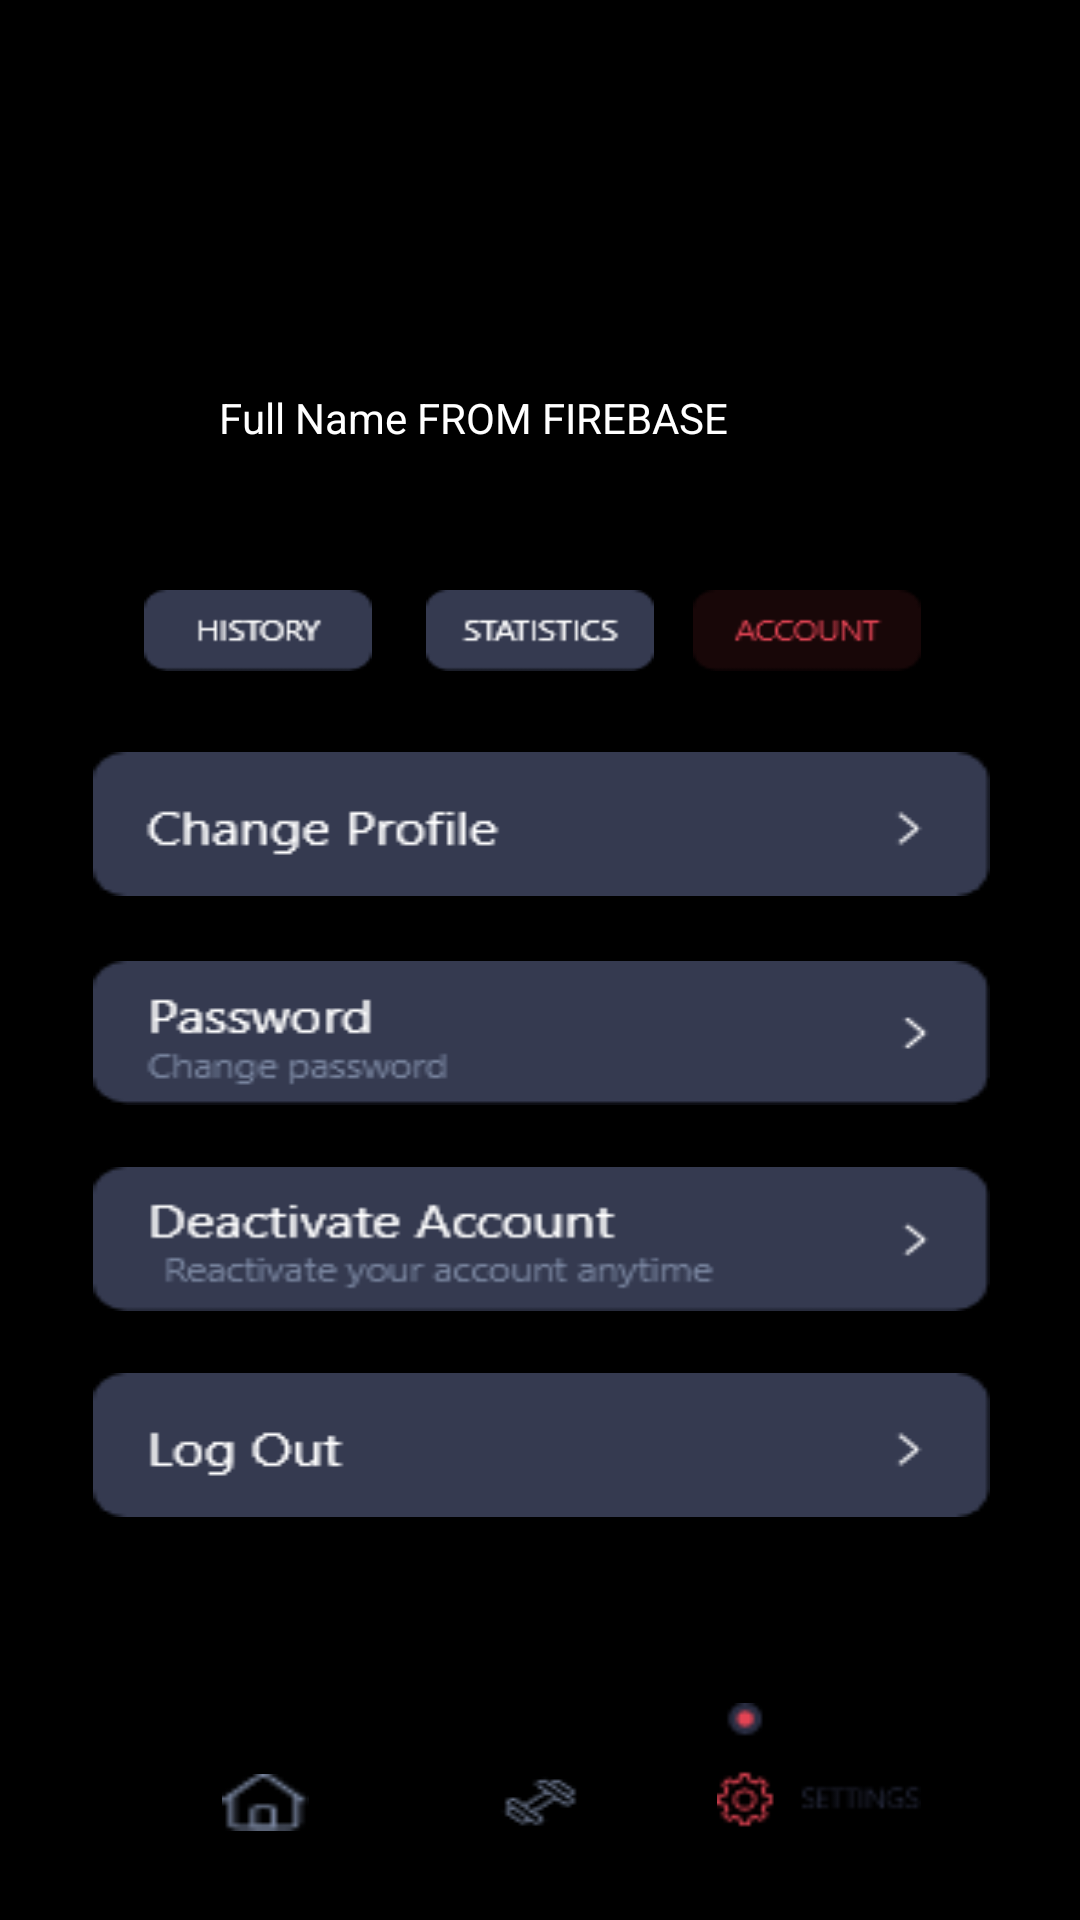

Where to tap for icons on this 1080w x 1920h app screen, as point (x, y):
homeicon: point (264, 1802)
